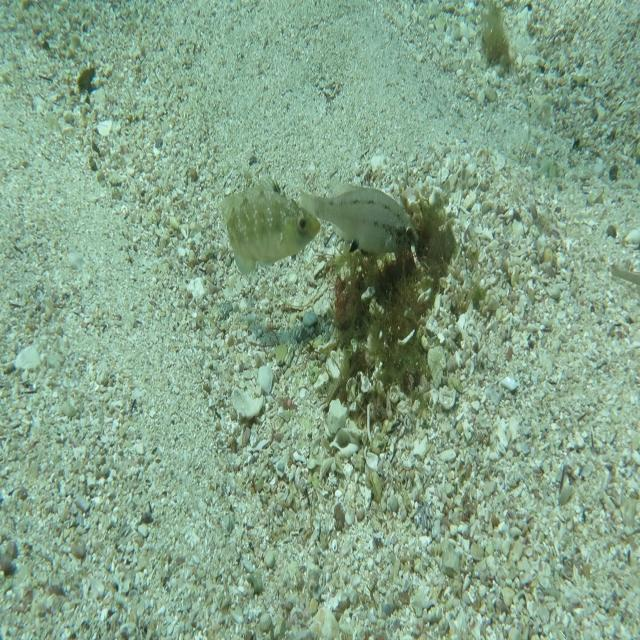GB: (220, 172, 321, 276)
core_nest: (388, 224, 433, 271)
female: (298, 162, 421, 256)
nest: (318, 163, 468, 436)
